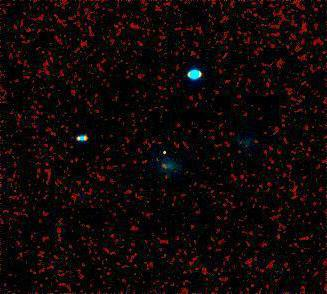star: (150, 137, 180, 167)
